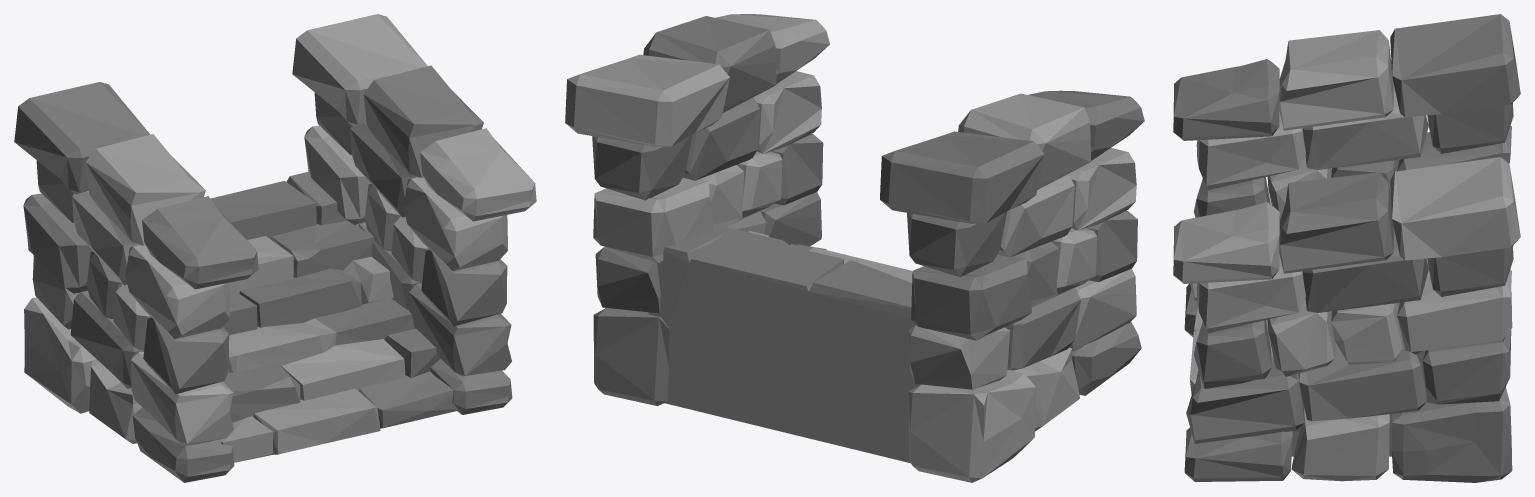
Rendered from _STSAIRS_07_1.glb.
3 views of the same model, side by side, from view 1: azimuth 30°, elevation 25°; view 2: azimuth 150°, elevation 25°; view 3: azimuth 270°, elevation 25° (orthographic). The views are drawn at different scales.
Parts seen in each view (by area): view 1: STSAIRS_07_1; view 2: STSAIRS_07_1; view 3: STSAIRS_07_1.
Part boxes in pixels (x1,y1,x2,y2): STSAIRS_07_1: (14,14,536,482); STSAIRS_07_1: (565,14,1144,482); STSAIRS_07_1: (1173,14,1520,482).
Size of the model in its own units: 1.52 by 1.1 by 1.16.
1 material, 1 textured.
